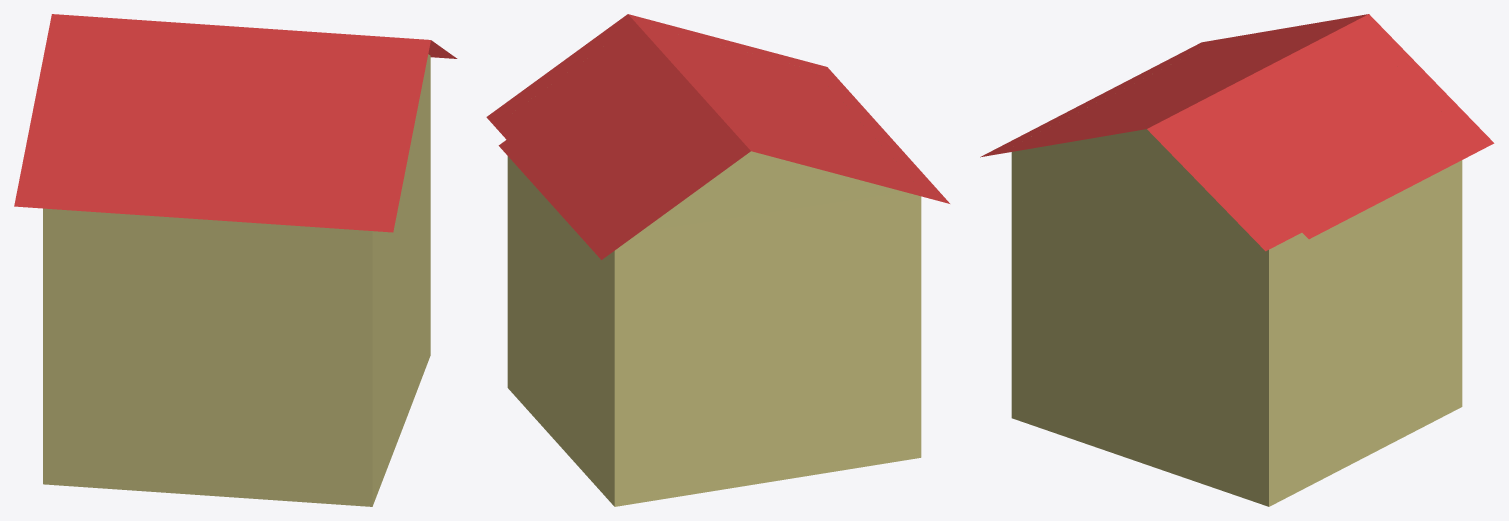
3 renders of one model, left to right at view 1: azimuth 30°, elevation 25°; view 2: azimuth 150°, elevation 25°; view 3: azimuth 270°, elevation 25°, orthographic. The views are drawn at different scales.
Bounding box in the file's own units: 11 × 11.2 × 8.36.
